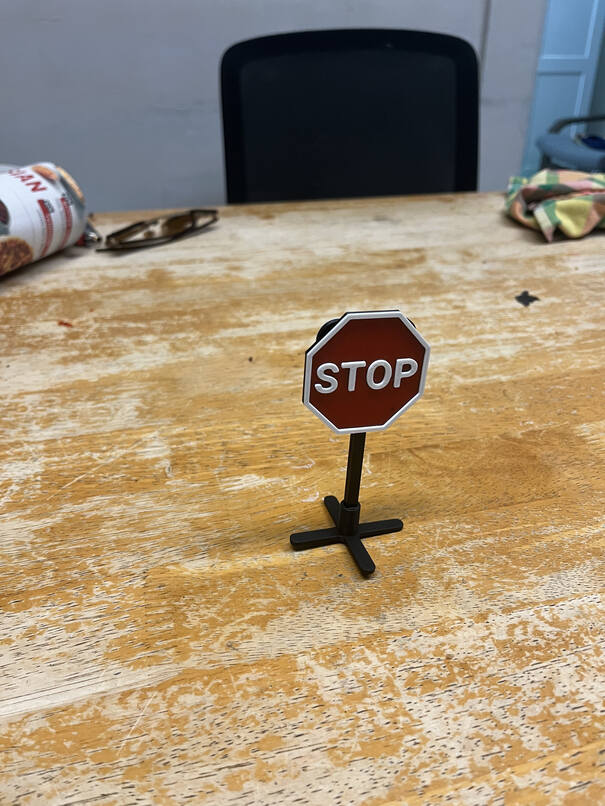sign_stop: (300, 314, 430, 432)
